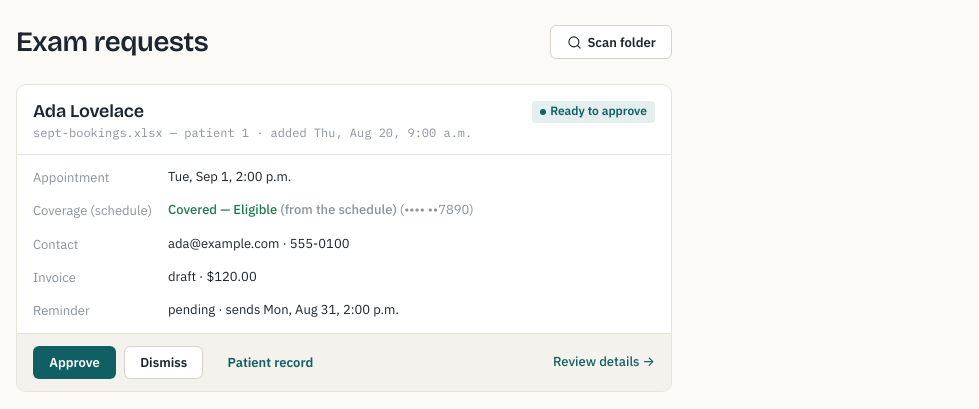
Test: Inbox › approves a request and reports success
Click the button "Approve".
click(74, 362)  # box [33,346,116,379]
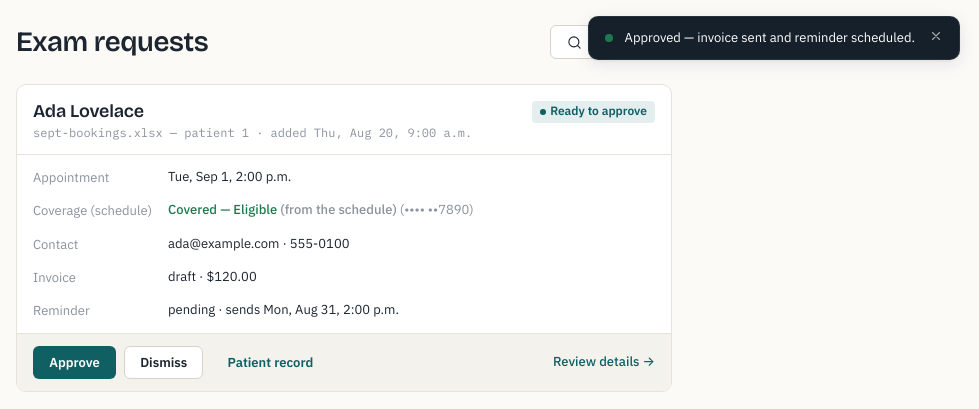
Now the text "Approved — invoice sent and reminder scheduled." is shown, box [625,29,915,46]
